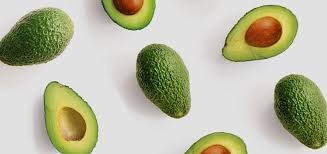aguacate: (131, 36, 197, 133), (1, 4, 82, 73), (272, 68, 327, 154)
